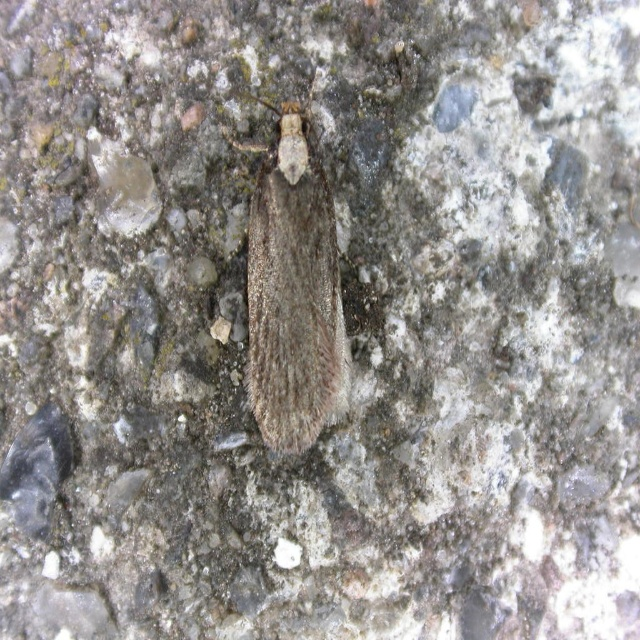Moths and butterflies: (235, 97, 364, 460)
